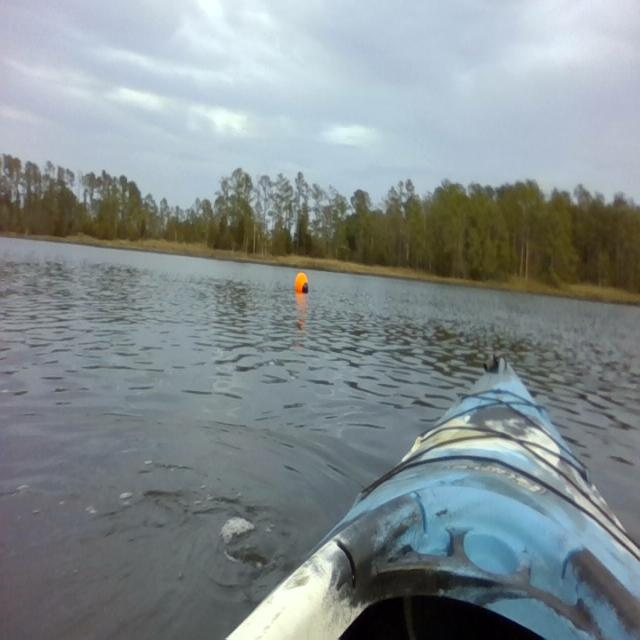Buoy: (294, 270, 310, 295)
